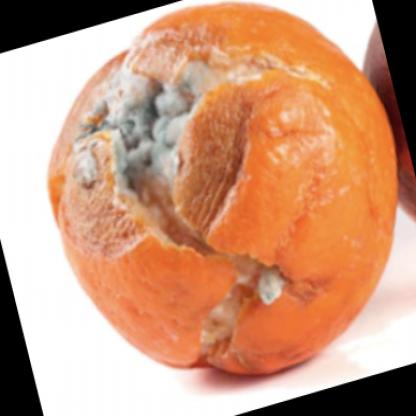rotten_orange: (60, 2, 398, 382)
